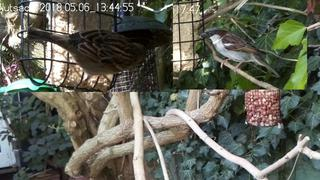sparrow: (27, 27, 146, 82), (200, 27, 280, 77)
